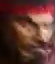ryu: (21, 11, 51, 50)
